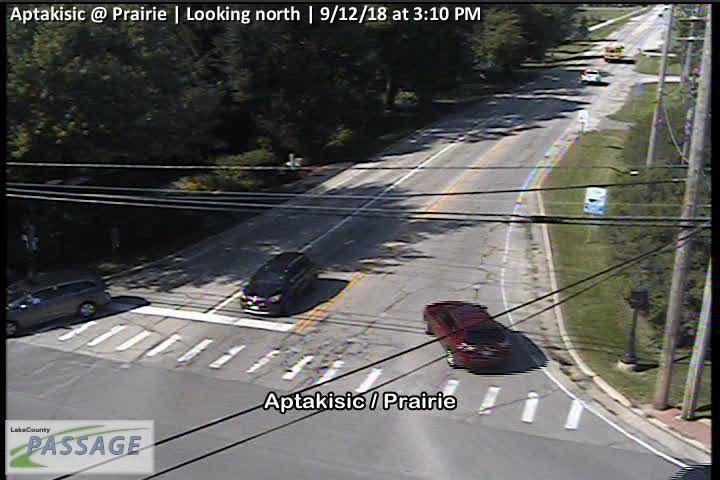Bus: (603, 44, 624, 60)
SUV: (6, 270, 110, 337), (240, 252, 316, 315)
Sedan: (423, 300, 512, 371), (581, 70, 601, 83)
